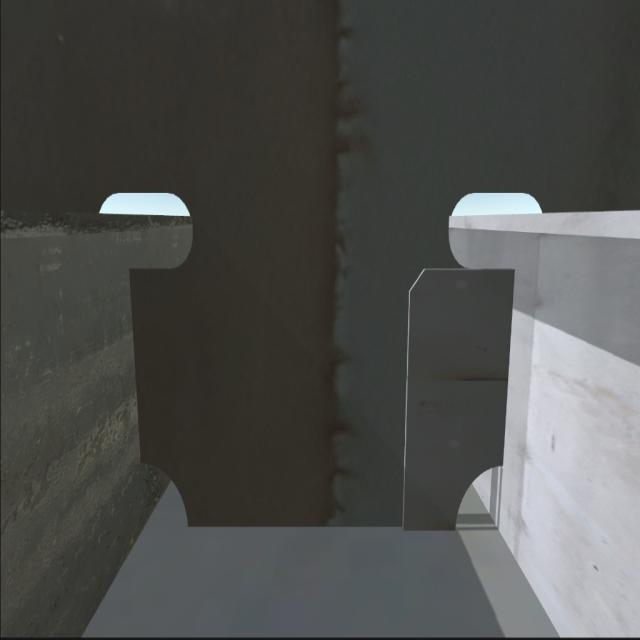fillet_hole: (457, 461, 502, 536), (142, 468, 192, 529)
fillet_yong_jeop_jang: (183, 510, 459, 539)
longi_yong_jeop_jang: (119, 267, 152, 478), (498, 262, 519, 475)
plate_CP03: (400, 263, 515, 535)
